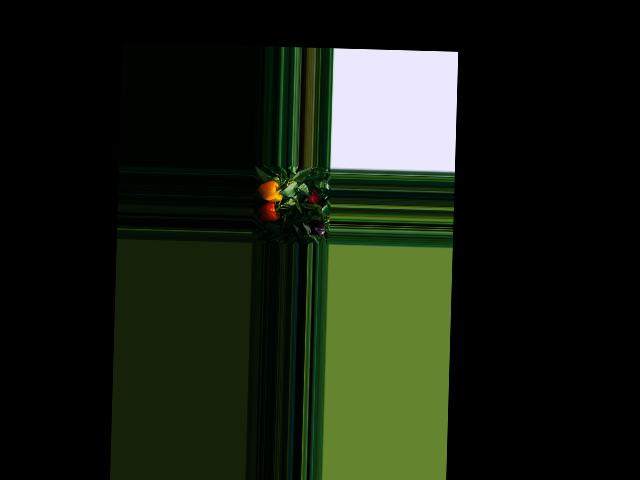bell_pepper: (258, 180, 283, 207)
